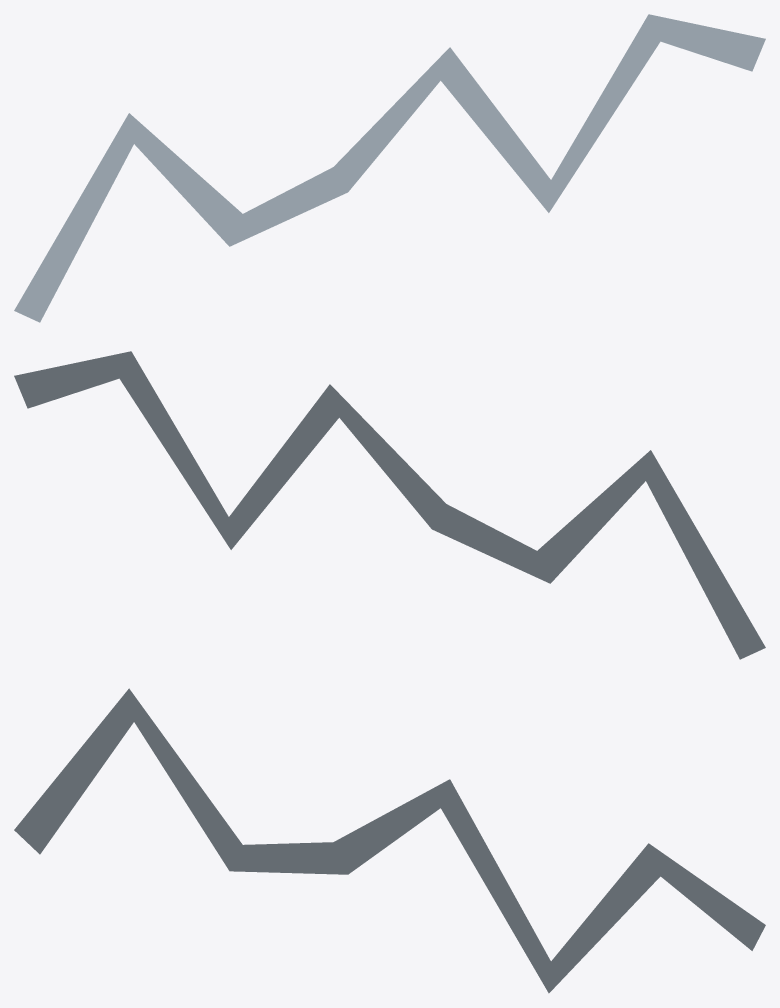
File: 2045_PotionThrow_Overall_GroundArc24.fbx
3 views of the same model, one above another, from view 1: azimuth 30°, elevation 25°; view 2: azimuth 150°, elevation 25°; view 3: azimuth 330°, elevation 25° (orthographic).
Visible parts, largest first — view 1: PART_GroundArc24; view 2: PART_GroundArc24; view 3: PART_GroundArc24.
Part boxes in pixels (x1=…): PART_GroundArc24: x1=14, y1=14, x2=765, y2=322; PART_GroundArc24: x1=14, y1=351, x2=765, y2=659; PART_GroundArc24: x1=14, y1=688, x2=765, y2=993.
Size of the model in its own units: 71.9 by 18.55 by 3.02e-06.
